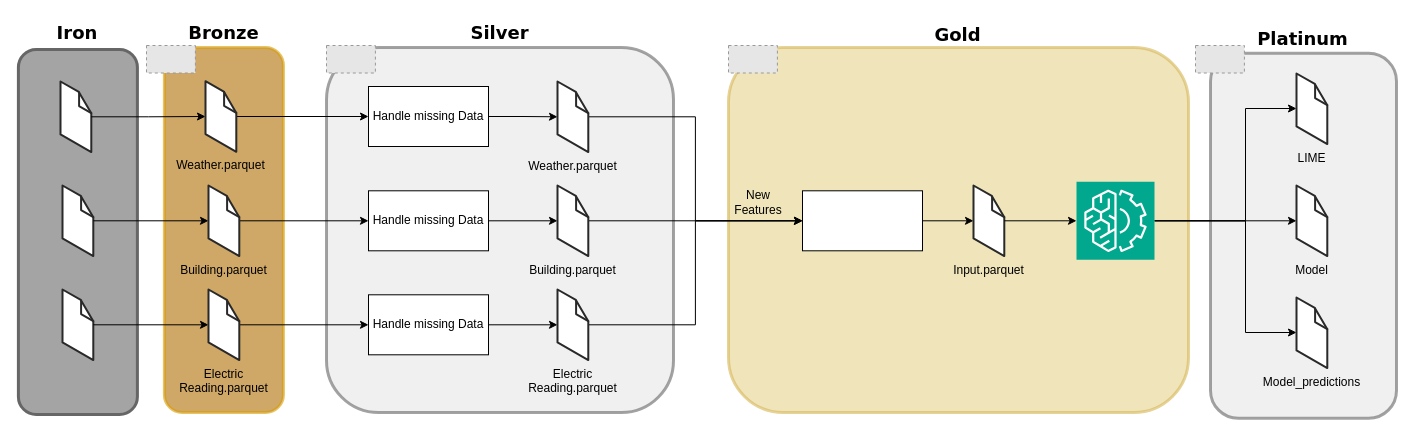
This 1416x437 diagram has some shape labels left out. Grey dashed boxes stand in for pictures. The box of each missing label's shape, as (x1, y1, x2, y2) in pixels:
Building.csv: (62, 184, 93, 256)
Electric Reading.csv: (62, 288, 93, 360)
Join Export to Parquet: (802, 190, 922, 251)
Train Model: (1076, 181, 1154, 260)
Weather.csv: (60, 80, 91, 152)
